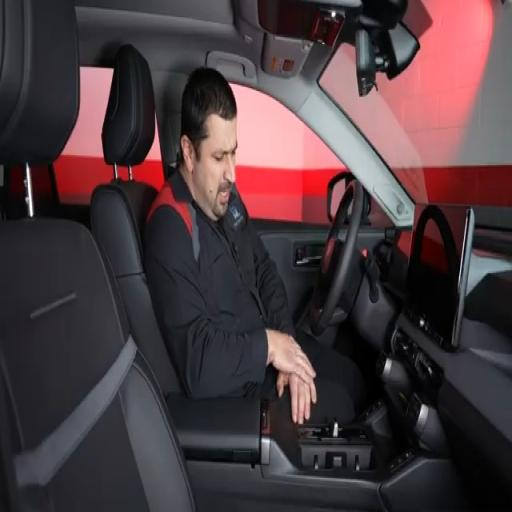side_mirror: (378, 23, 419, 79), (327, 171, 354, 221), (327, 173, 350, 221)
window: (232, 84, 346, 224)
windshield: (320, 0, 511, 206)
